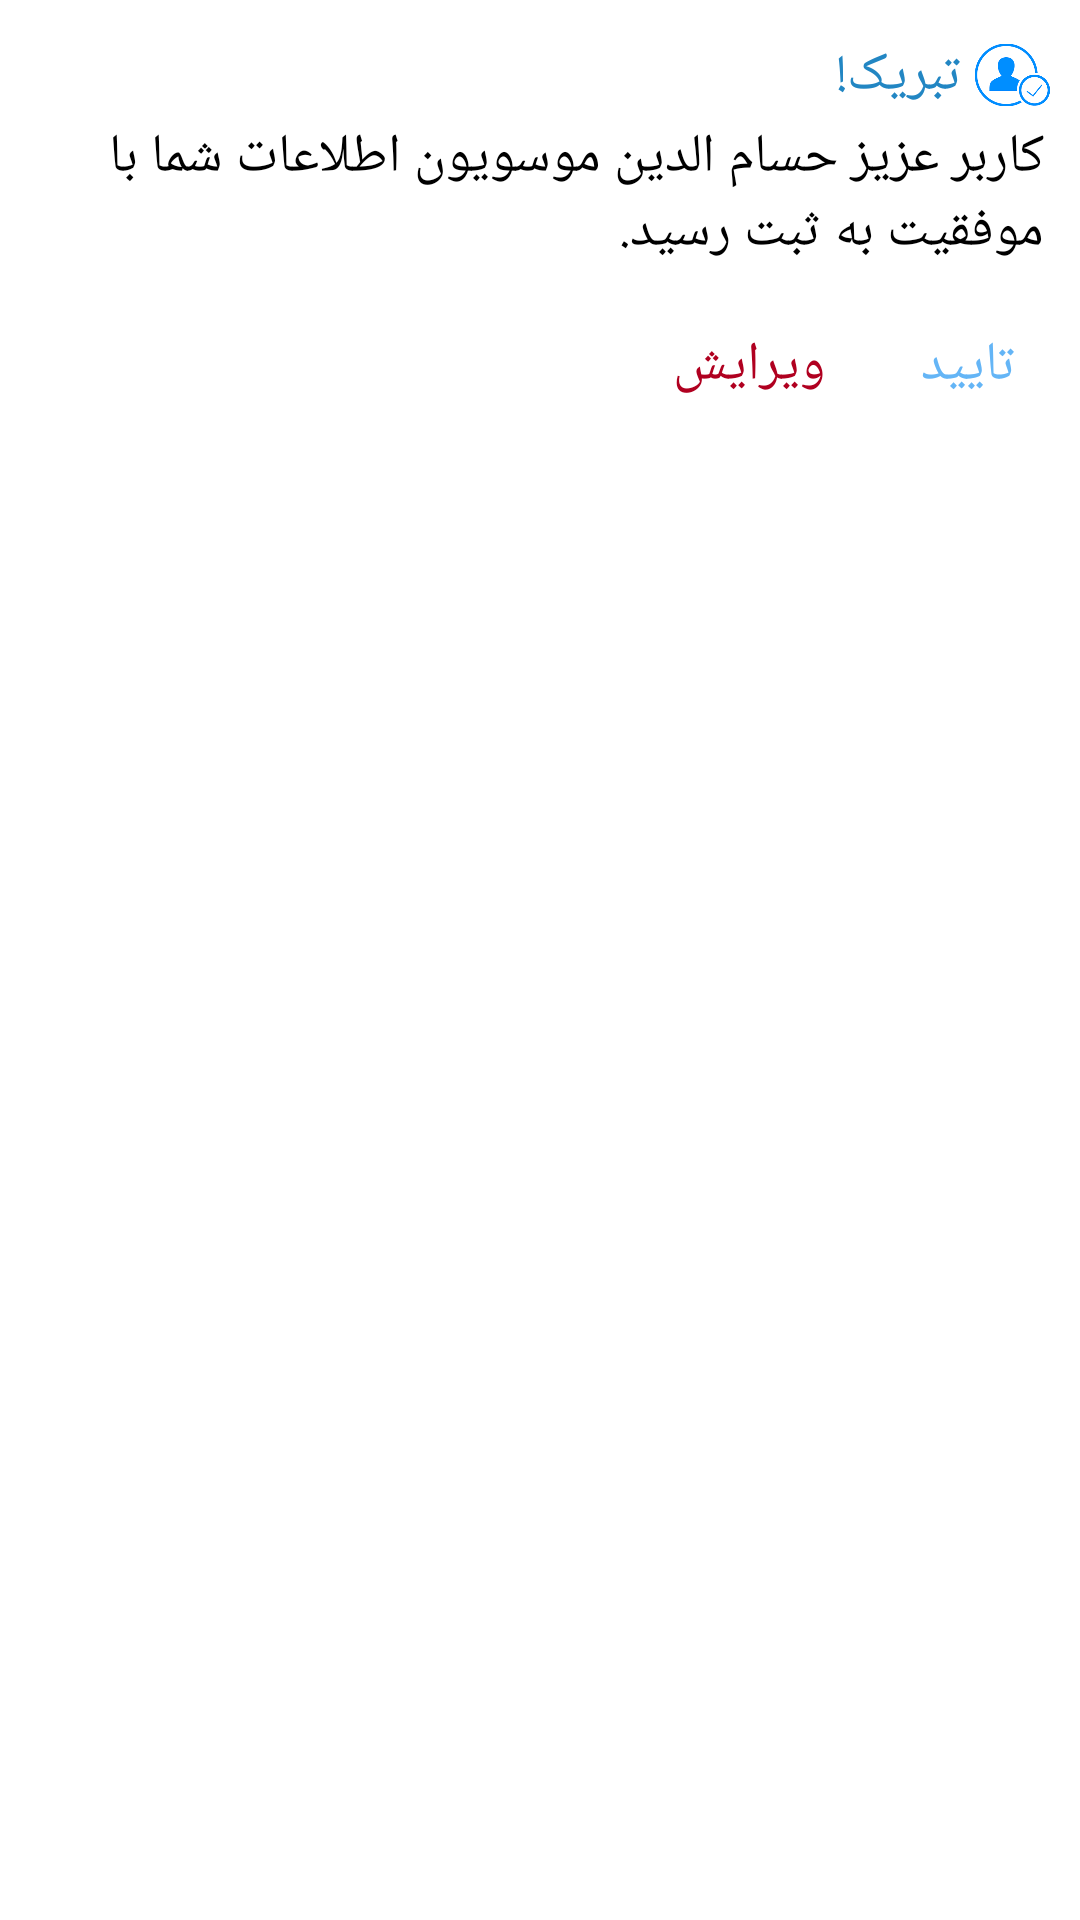

Icon bounding boxes for this 1080x1920 phone screenshot, format [x1, y1, x2, y2]:
piclogin: [975, 44, 1050, 106]
